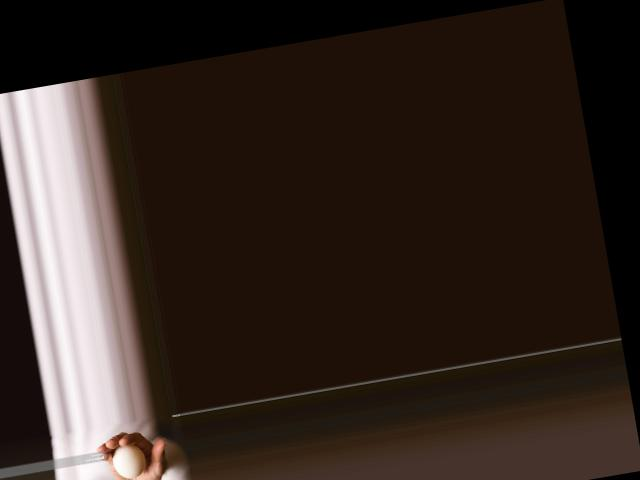egg: (110, 441, 148, 480)
